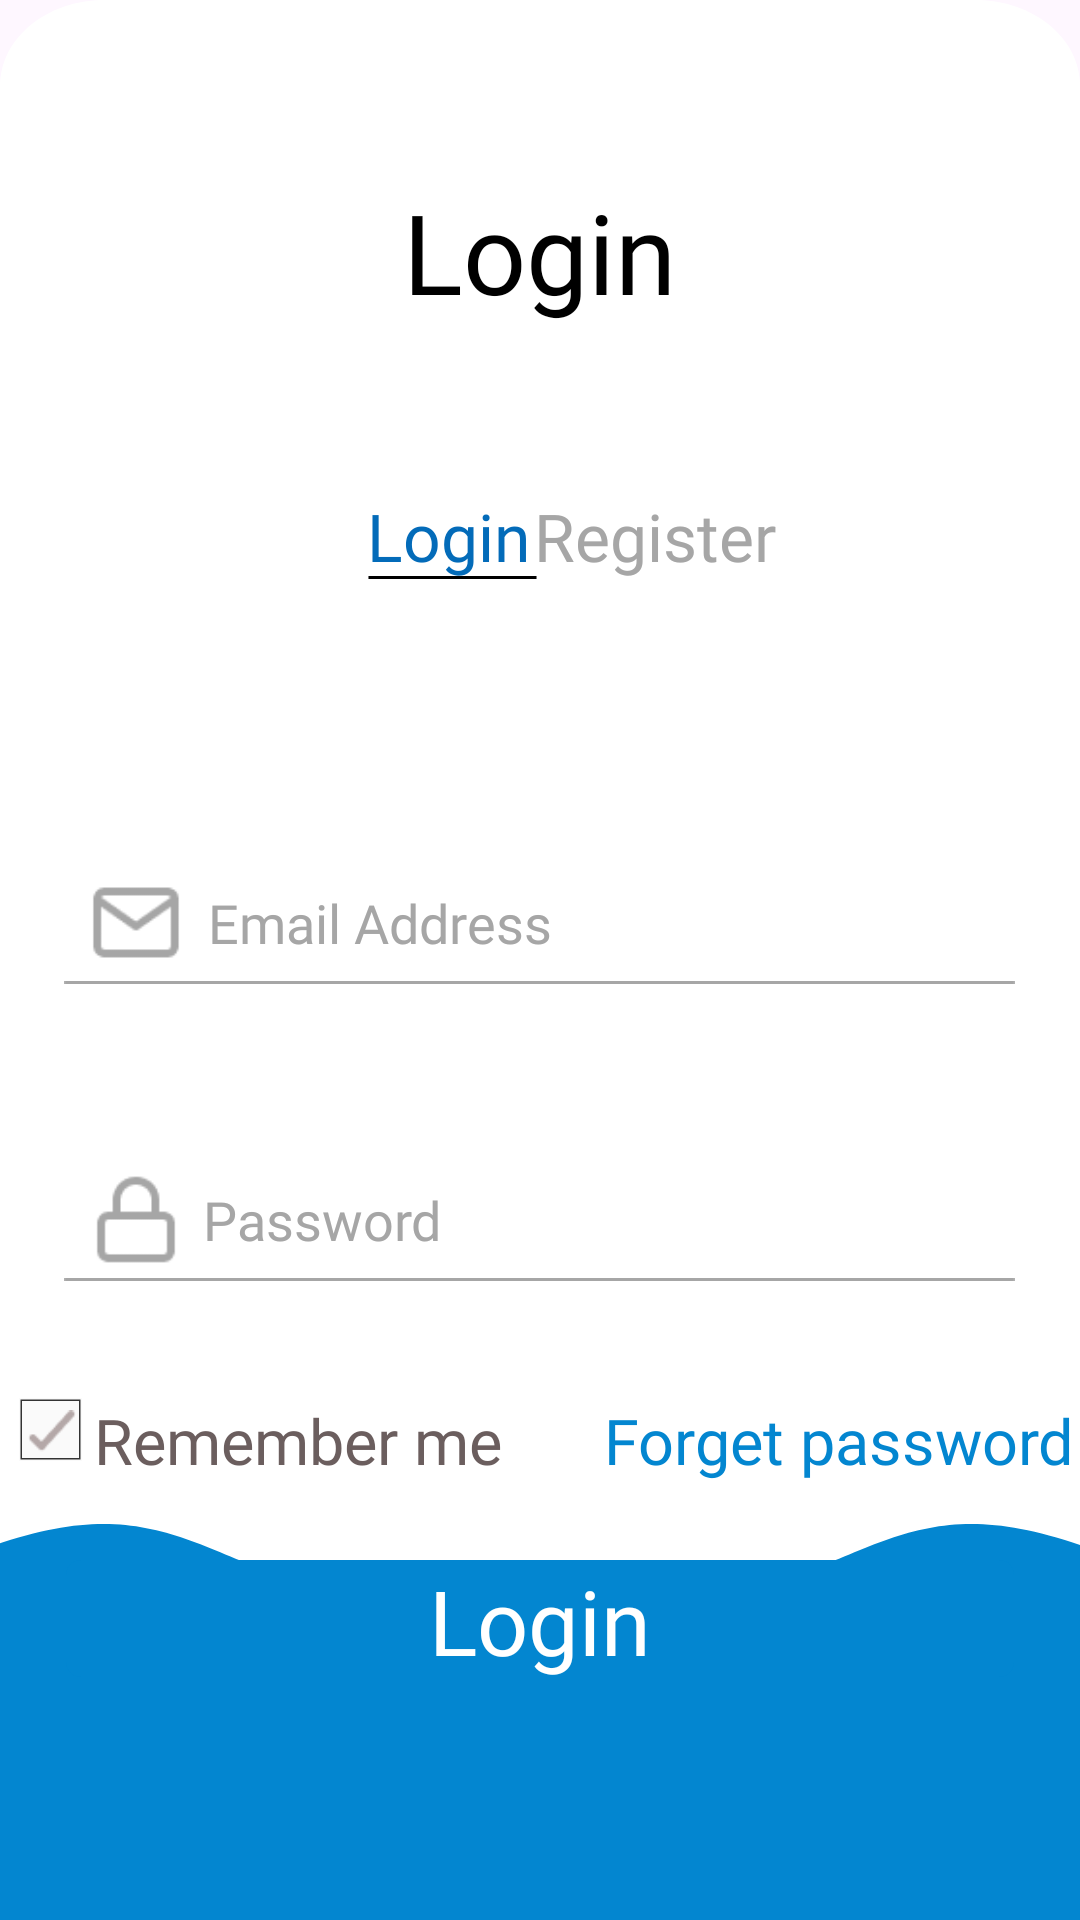

Icons on this 1080 × 1920 Android screen, each with the point to tap as [x,y]:
check: [52,1430]
lock: [136,1219]
